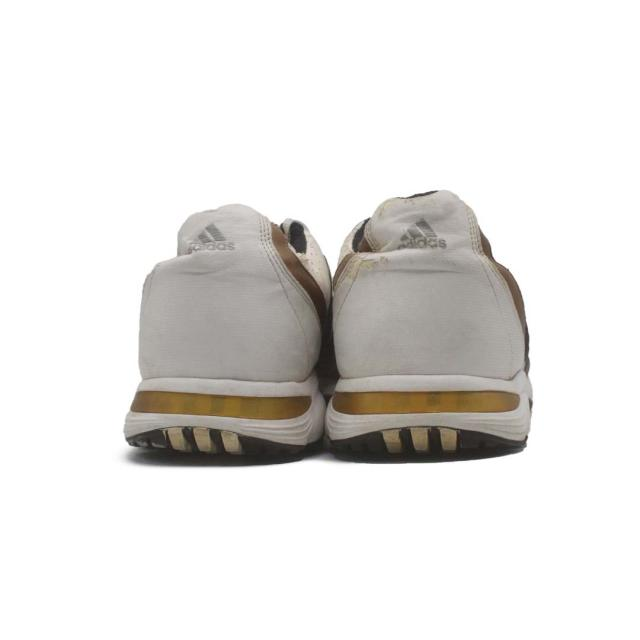heel: (326, 200, 535, 380), (143, 204, 309, 377)
midsole: (125, 373, 330, 459), (325, 373, 525, 459)
